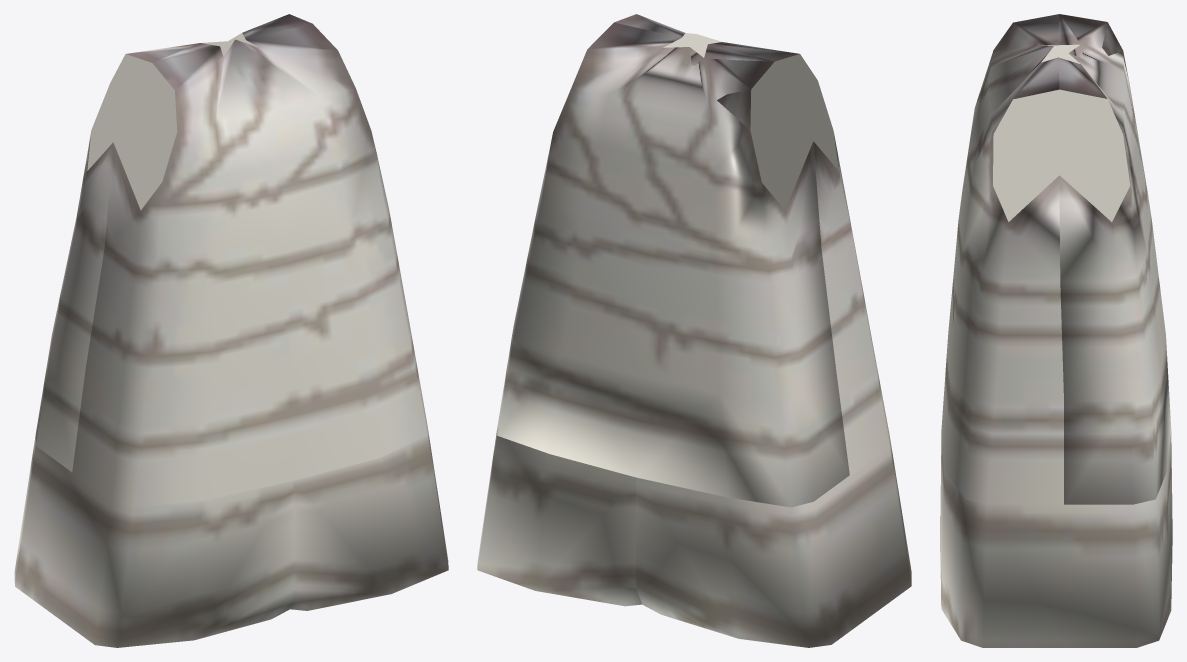
Rendered from body-2_townie_spooky_mel_mummy.blend.obj.
3 renders of one model, left to right at view 1: azimuth 30°, elevation 25°; view 2: azimuth 150°, elevation 25°; view 3: azimuth 270°, elevation 25°, orthographic. The views are drawn at different scales.
Parts seen in each view (by area): view 1: body-2_townie_spooky_mel_mummy.blend_defaultobject.002_meshId0_n; view 2: body-2_townie_spooky_mel_mummy.blend_defaultobject.002_meshId0_n; view 3: body-2_townie_spooky_mel_mummy.blend_defaultobject.002_meshId0_n.
Part boxes in pixels (x1,y1,x2,y2): body-2_townie_spooky_mel_mummy.blend_defaultobject.002_meshId0_n: (14,14,448,647); body-2_townie_spooky_mel_mummy.blend_defaultobject.002_meshId0_n: (477,14,911,647); body-2_townie_spooky_mel_mummy.blend_defaultobject.002_meshId0_n: (940,14,1172,647).
Size of the model in its own units: 0.4251 by 0.6182 by 0.251.
Materials: 1 (1 with a texture image).
